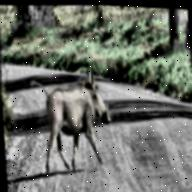boar: (28, 63, 114, 181)
